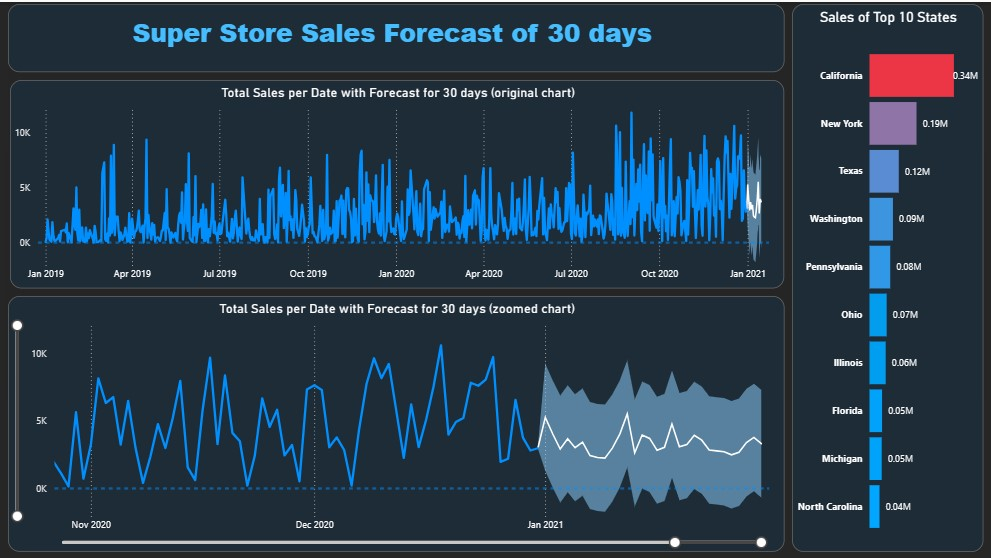

The dashboard page shown, as its layout file describes it:
{"tool":"powerbi","page":{"name":"Sales Forecast","canvas":[1280,720],"ordinal":1},"visuals":[{"type":"clusteredBarChart","title":"Sales of Top 10 States ","fields":{"Category":["SuperStore_Sales_Dataset.State"],"Y":["Sum(SuperStore_Sales_Dataset.Sales)"]},"box":[1023.3,2.8,246.6,707.2],"z":0},{"type":"lineChart","title":"Total Sales per Date with Forecast for 30 days (original chart)","fields":{"Category":["SuperStore_Sales_Dataset.Order Date"],"Y":["Sum(SuperStore_Sales_Dataset.Sales)"]},"box":[14.2,100.6,999.2,269.3],"z":1000},{"type":"textbox","title":"Super Store Sales Forecast of 30 days ","box":[11.3,2.8,1002,87.9],"z":2000},{"type":"lineChart","title":"Total Sales per Date with Forecast for 30 days (zoomed chart)","fields":{"Category":["SuperStore_Sales_Dataset.Order Date"],"Y":["Sum(SuperStore_Sales_Dataset.Sales)"]},"box":[11.3,379.8,1002,330.2],"z":3000}]}

Visuals, with their boxes in screenshot pixels (x1, y1, x2, y2), scaled from the page's 1280x720 canvas onto the 991x558 screenshot:
"Sales of Top 10 States " clusteredBarChart: 792 2 983 550
"Total Sales per Date with Forecast for 30 days (original chart)" lineChart: 11 78 785 287
"Super Store Sales Forecast of 30 days " textbox: 9 2 785 70
"Total Sales per Date with Forecast for 30 days (zoomed chart)" lineChart: 9 294 785 550
